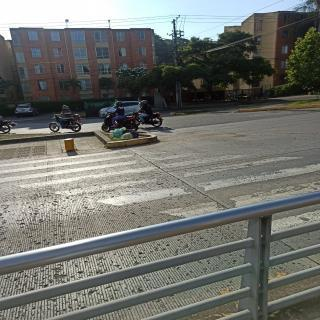Garbage: (124, 129, 139, 138), (112, 127, 125, 137), (120, 132, 133, 139)
